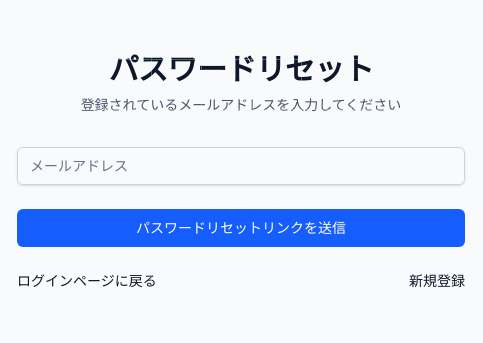
Test: ForgotPasswordPage › form submission › shows error message on failure
In the field with placeholder "メールアドレス": {"x": 241, "y": 166} [17,147,465,185], type "test@example.com"
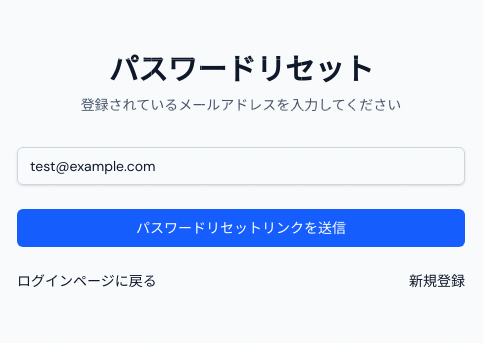
Click the button "パスワードリセットリンクを送信": {"x": 241, "y": 228} [17,209,465,247]
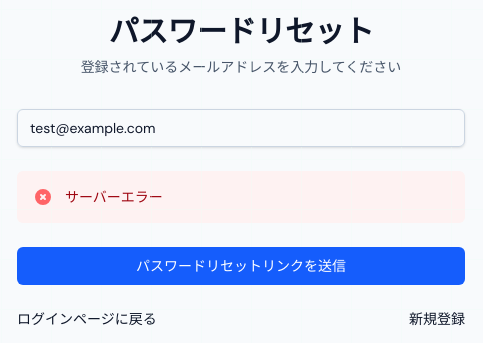
Check: the text "サーバーエラー" is shown, box [65,187,163,207]
